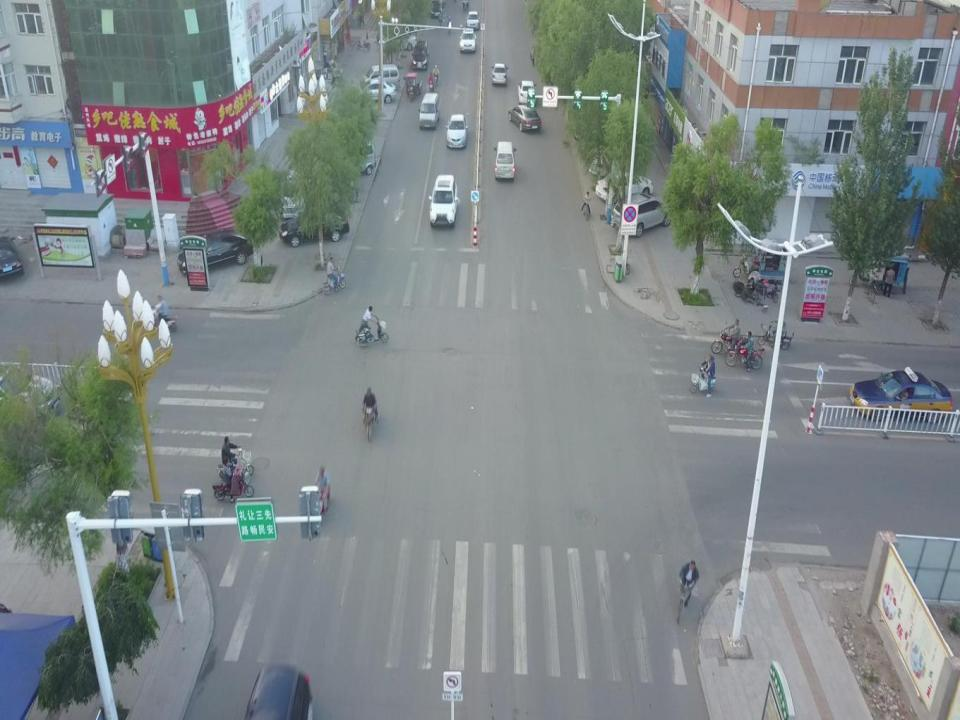car: (243, 665, 315, 717), (178, 229, 253, 274), (610, 192, 672, 238), (278, 211, 350, 246), (595, 170, 654, 204), (348, 78, 397, 104), (0, 236, 24, 280), (508, 105, 542, 131), (445, 114, 469, 148), (379, 31, 417, 50), (516, 80, 536, 105), (491, 63, 509, 86), (460, 28, 477, 52), (465, 11, 480, 29)
van: (428, 173, 459, 226), (328, 142, 376, 175), (493, 140, 518, 184), (361, 63, 399, 86), (419, 91, 441, 128), (412, 40, 428, 70), (429, 0, 442, 18)
